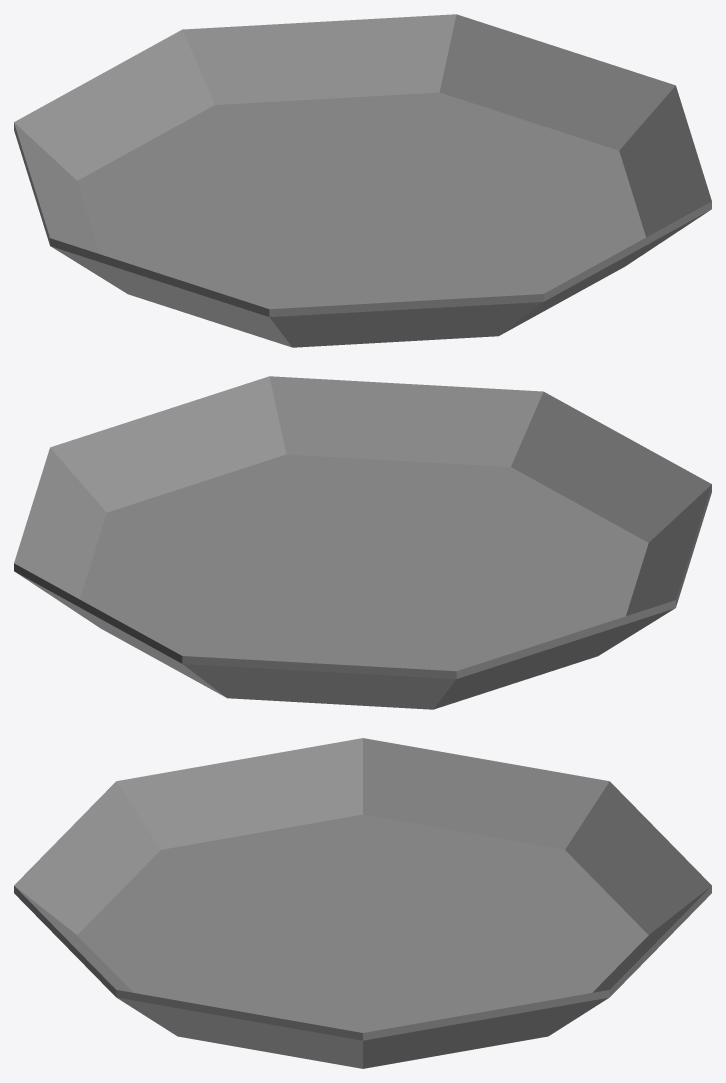
File: plate3.glb
3 renders of one model, top to bottom at view 1: azimuth 30°, elevation 25°; view 2: azimuth 150°, elevation 25°; view 3: azimuth 270°, elevation 25°, orthographic. The views are drawn at different scales.
Parts seen in each view (by area): view 1: plate3; view 2: plate3; view 3: plate3.
Part boxes in pixels (x1,y1,x2,y2): plate3: [14, 14, 711, 347]; plate3: [14, 376, 711, 709]; plate3: [14, 738, 711, 1068].
Bounding box in the file's own units: 0.3192 × 0.0366 × 0.3192.
1 material, 1 textured.
